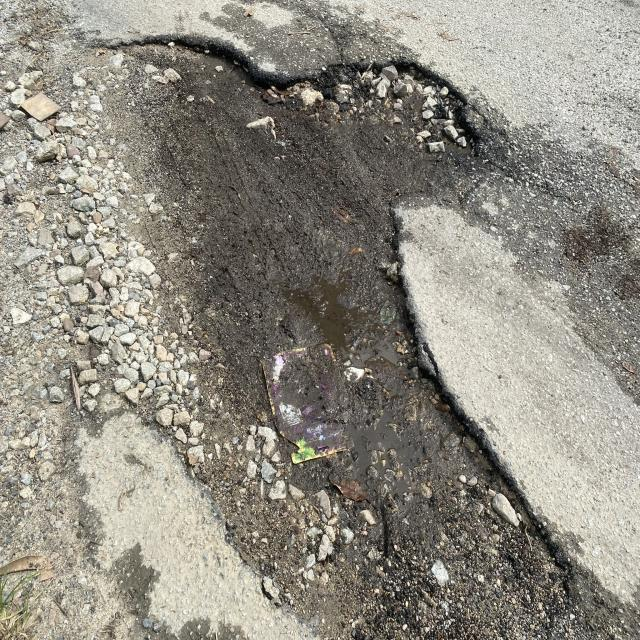Pothole: (348, 214, 628, 624), (75, 0, 499, 172)
